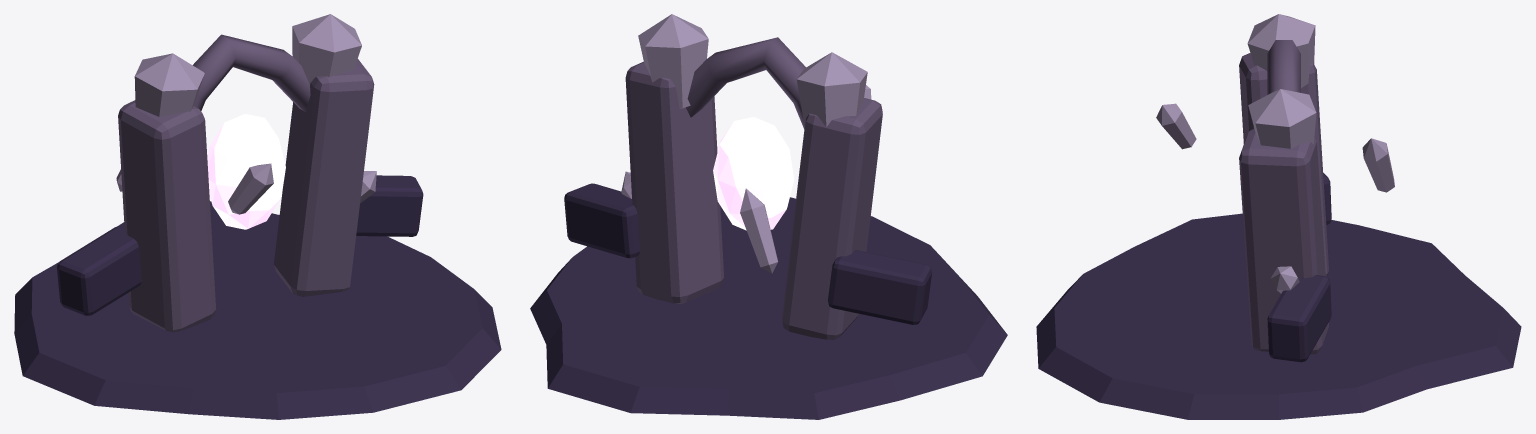
File: void-scar-lod2.glb
The picture shows the model from 3 angles, left to right: view 1: azimuth 30°, elevation 25°; view 2: azimuth 150°, elevation 25°; view 3: azimuth 270°, elevation 25°; orthographic projection. The views are drawn at different scales.
Visible parts, largest first — view 1: DARK_TERRAIN_SOCKET, STONE_SHATTERED_MONOLITH_-1, STONE_SHATTERED_MONOLITH_1, FX_CORE, DARK_MONOLITH_WING_-1, STONE_VOID_GATE_ARCH, CRYSTAL_BROKEN_CROWN_1, CRYSTAL_BROKEN_CROWN_-1, DARK_MONOLITH_WING_1, FX_FLOAT_DEBRIS_2; view 2: DARK_TERRAIN_SOCKET, STONE_SHATTERED_MONOLITH_1, STONE_SHATTERED_MONOLITH_-1, FX_CORE, DARK_MONOLITH_WING_-1, STONE_VOID_GATE_ARCH, DARK_MONOLITH_WING_1, CRYSTAL_BROKEN_CROWN_1, CRYSTAL_BROKEN_CROWN_-1, FX_FLOAT_DEBRIS_1; view 3: DARK_TERRAIN_SOCKET, STONE_SHATTERED_MONOLITH_1, DARK_MONOLITH_WING_1, CRYSTAL_BROKEN_CROWN_1, STONE_SHATTERED_MONOLITH_-1, CRYSTAL_BROKEN_CROWN_-1, STONE_VOID_GATE_ARCH, FX_FLOAT_DEBRIS_1, FX_FLOAT_DEBRIS_2, FX_FLOAT_DEBRIS_0.
Part boxes in pixels (<box>): DARK_TERRAIN_SOCKET: <box>14,201,501,419</box>; STONE_SHATTERED_MONOLITH_-1: <box>118,100,216,332</box>; STONE_SHATTERED_MONOLITH_1: <box>273,59,374,296</box>; FX_CORE: <box>207,114,285,229</box>; DARK_MONOLITH_WING_-1: <box>57,226,141,315</box>; STONE_VOID_GATE_ARCH: <box>193,34,310,111</box>; CRYSTAL_BROKEN_CROWN_1: <box>292,14,361,84</box>; CRYSTAL_BROKEN_CROWN_-1: <box>134,53,204,116</box>; DARK_MONOLITH_WING_1: <box>356,175,423,236</box>; FX_FLOAT_DEBRIS_2: <box>228,163,273,214</box>; DARK_TERRAIN_SOCKET: <box>530,197,1007,419</box>; STONE_SHATTERED_MONOLITH_1: <box>625,61,723,303</box>; STONE_SHATTERED_MONOLITH_-1: <box>782,98,882,339</box>; FX_CORE: <box>713,117,794,230</box>; DARK_MONOLITH_WING_-1: <box>827,250,932,324</box>; STONE_VOID_GATE_ARCH: <box>686,37,805,128</box>; DARK_MONOLITH_WING_1: <box>564,183,640,258</box>; CRYSTAL_BROKEN_CROWN_1: <box>638,14,708,108</box>; CRYSTAL_BROKEN_CROWN_-1: <box>796,52,867,126</box>; FX_FLOAT_DEBRIS_1: <box>740,188,778,273</box>; DARK_TERRAIN_SOCKET: <box>1036,213,1521,419</box>; STONE_SHATTERED_MONOLITH_1: <box>1239,129,1328,354</box>; DARK_MONOLITH_WING_1: <box>1267,275,1331,362</box>; CRYSTAL_BROKEN_CROWN_1: <box>1248,89,1316,148</box>; STONE_SHATTERED_MONOLITH_-1: <box>1239,53,1328,276</box>; CRYSTAL_BROKEN_CROWN_-1: <box>1247,14,1315,87</box>; STONE_VOID_GATE_ARCH: <box>1267,40,1300,94</box>; FX_FLOAT_DEBRIS_1: <box>1362,138,1394,192</box>; FX_FLOAT_DEBRIS_2: <box>1156,103,1196,149</box>; FX_FLOAT_DEBRIS_0: <box>1270,266,1299,293</box>.
Size of the model in its own units: 1.83 by 1.19 by 1.88.
